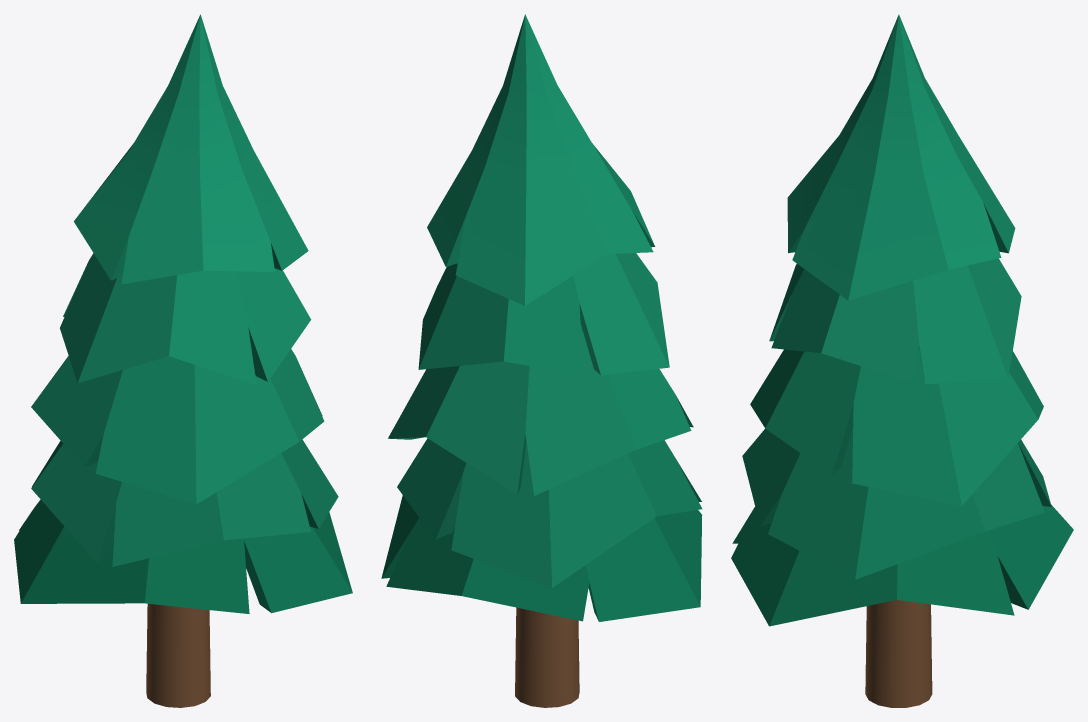
The model's file is Spruce_Turquoise_1.fbx.
The picture shows the model from 3 angles, left to right: view 1: azimuth 30°, elevation 25°; view 2: azimuth 150°, elevation 25°; view 3: azimuth 270°, elevation 25°; orthographic projection. The views are drawn at different scales.
Visible parts, largest first — view 1: Cylinder.1064, Cylinder.1065, Cylinder.1066, Cylinder.1068, Cylinder.1067, Cylinder.1069; view 2: Cylinder.1064, Cylinder.1065, Cylinder.1067, Cylinder.1066, Cylinder.1068, Cylinder.1069; view 3: Cylinder.1064, Cylinder.1065, Cylinder.1067, Cylinder.1066, Cylinder.1068, Cylinder.1069.
Boxes of the visible parts, left/top/right/bottom form: Cylinder.1064: left=74, top=14, right=308, bottom=284; Cylinder.1065: left=31, top=349, right=324, bottom=504; Cylinder.1066: left=60, top=253, right=311, bottom=384; Cylinder.1068: left=14, top=499, right=352, bottom=613; Cylinder.1067: left=31, top=439, right=338, bottom=566; Cylinder.1069: left=146, top=603, right=210, bottom=707; Cylinder.1064: left=427, top=14, right=655, bottom=305; Cylinder.1065: left=388, top=324, right=693, bottom=495; Cylinder.1067: left=397, top=438, right=702, bottom=587; Cylinder.1066: left=418, top=253, right=669, bottom=375; Cylinder.1068: left=381, top=495, right=702, bottom=621; Cylinder.1069: left=515, top=607, right=579, bottom=707; Cylinder.1064: left=787, top=14, right=1015, bottom=300; Cylinder.1065: left=750, top=347, right=1043, bottom=505; Cylinder.1067: left=742, top=427, right=1051, bottom=579; Cylinder.1066: left=769, top=258, right=1021, bottom=384; Cylinder.1068: left=731, top=504, right=1073, bottom=626; Cylinder.1069: left=865, top=600, right=932, bottom=707.
Bounding box in the file's own units: 265 × 567 × 255.
